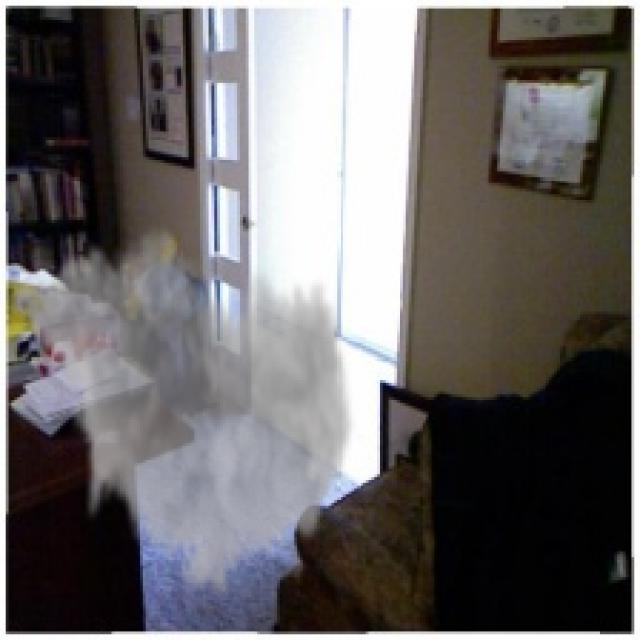smoke: (9, 217, 357, 606)
